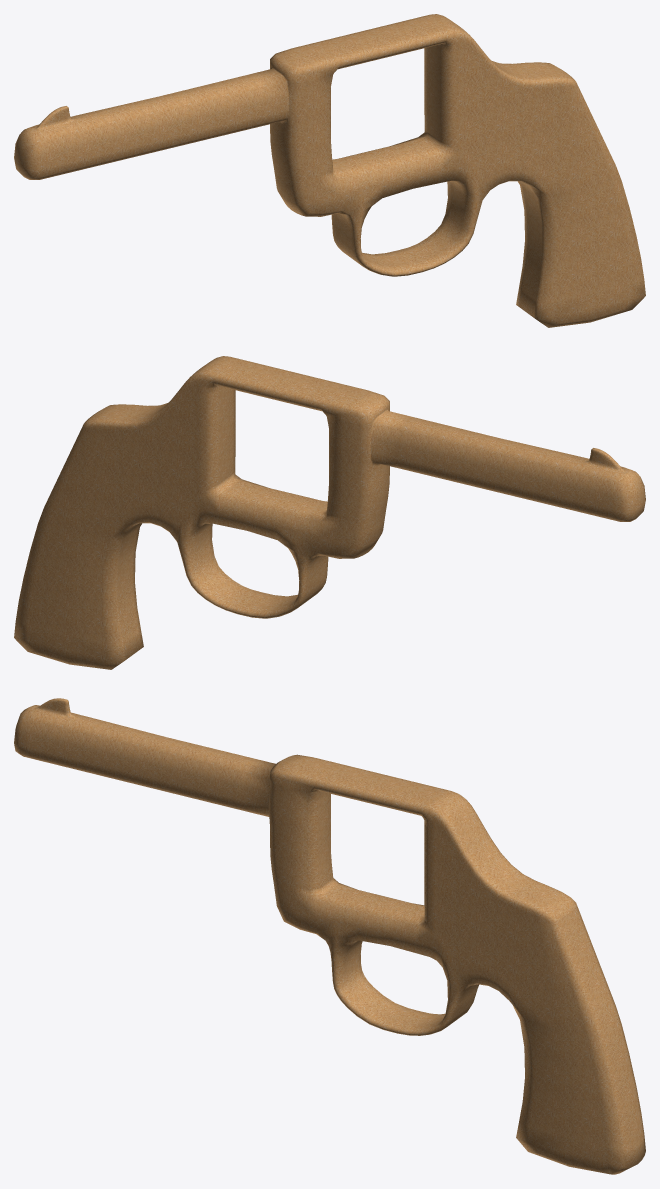
Rendered from revolverBody.FBX.
The picture shows the model from 3 angles, top to bottom: view 1: azimuth 30°, elevation 25°; view 2: azimuth 150°, elevation 25°; view 3: azimuth 330°, elevation 25°; orthographic projection.
Visible parts, largest first — view 1: Plane002; view 2: Plane002; view 3: Plane002.
Part boxes in pixels (<box>): Plane002: <box>14,14,645,327</box>; Plane002: <box>14,356,645,669</box>; Plane002: <box>14,698,645,1174</box>.
Bounding box in the file's own units: 178 × 92.4 × 12.85.
